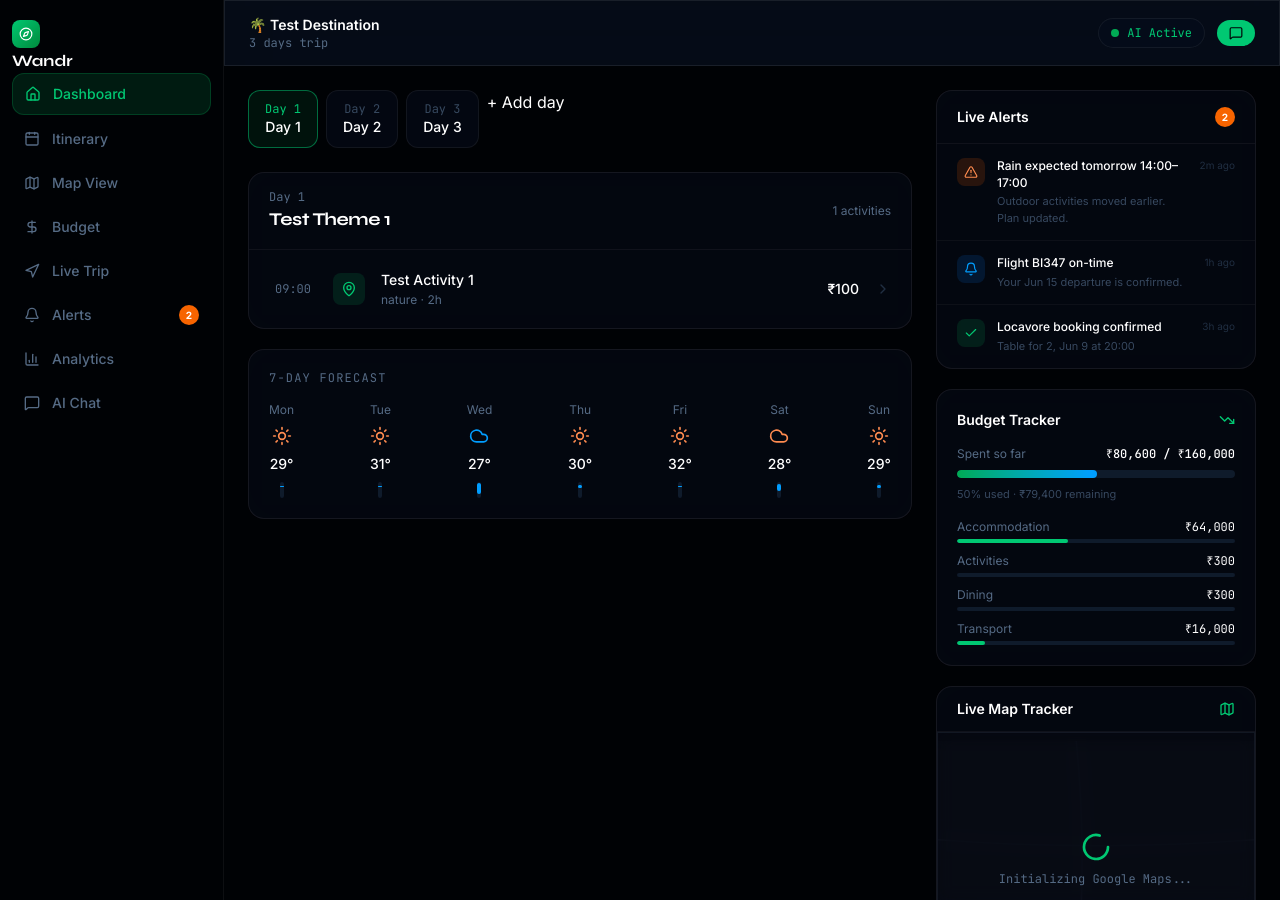
it: Dashboard › can switch between days
Check: the heading "Test Theme 1" is shown, box x1=269 y1=205 x2=391 y2=233
// Click Day 2 - use getAllByText if multiple matches, or be more specific
Step 1. Click the 1st text "Day 2" → {"x": 362, "y": 109}, box x1=344 y1=101 x2=380 y2=117
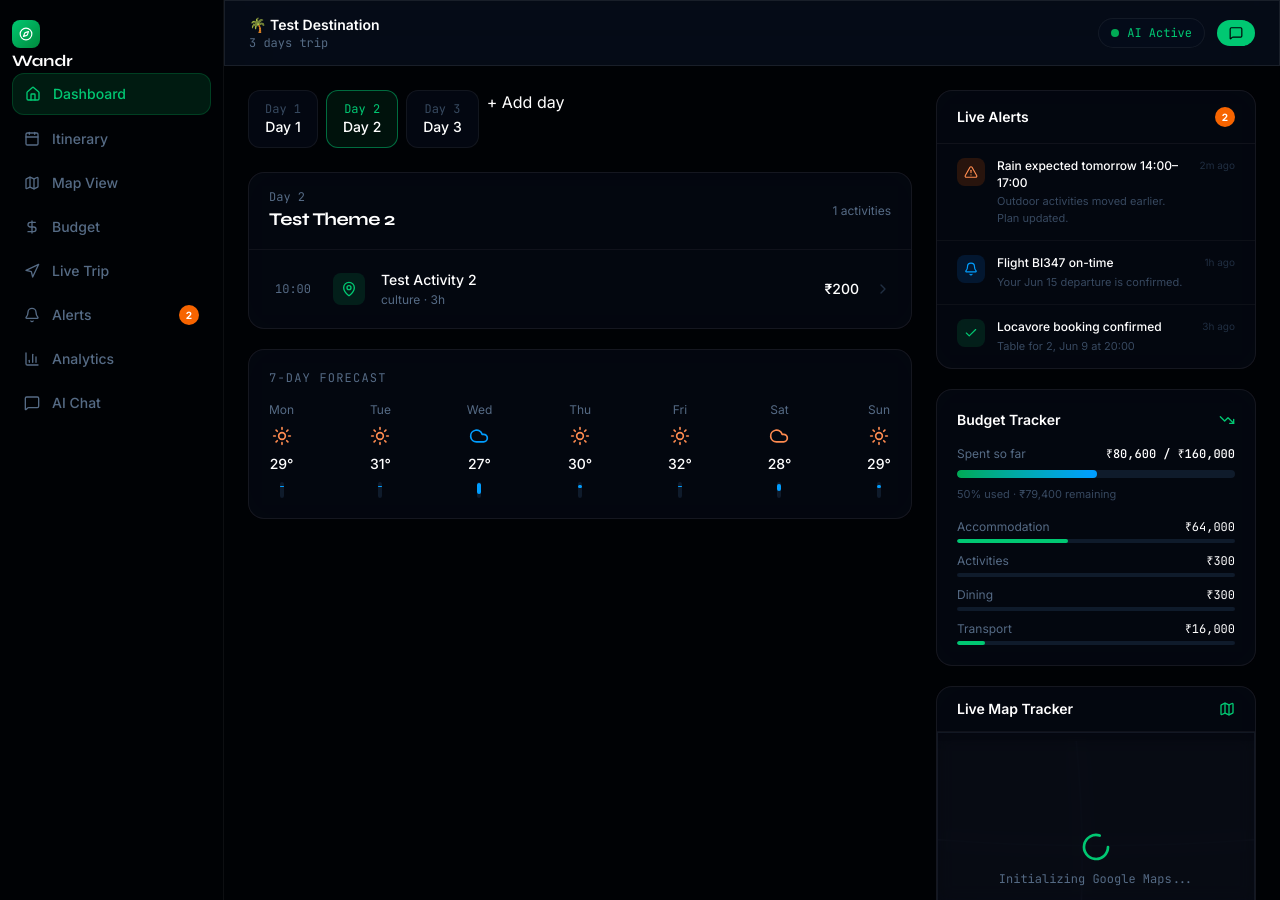
Check: the heading "Test Theme 2" is shown, box x1=269 y1=205 x2=395 y2=233
